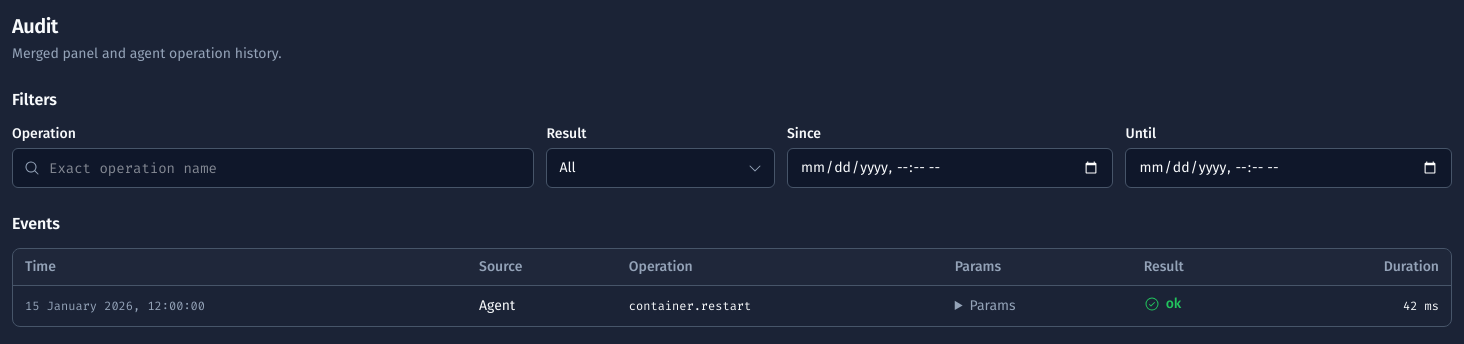
Test case: AuditPage › requests failed results and clears the filters
Expected: the text "container.restart" is shown, [617,286,943,326]
Select "Failed" in the dropdown labelled "Result": (661, 168) [546,148,775,188]
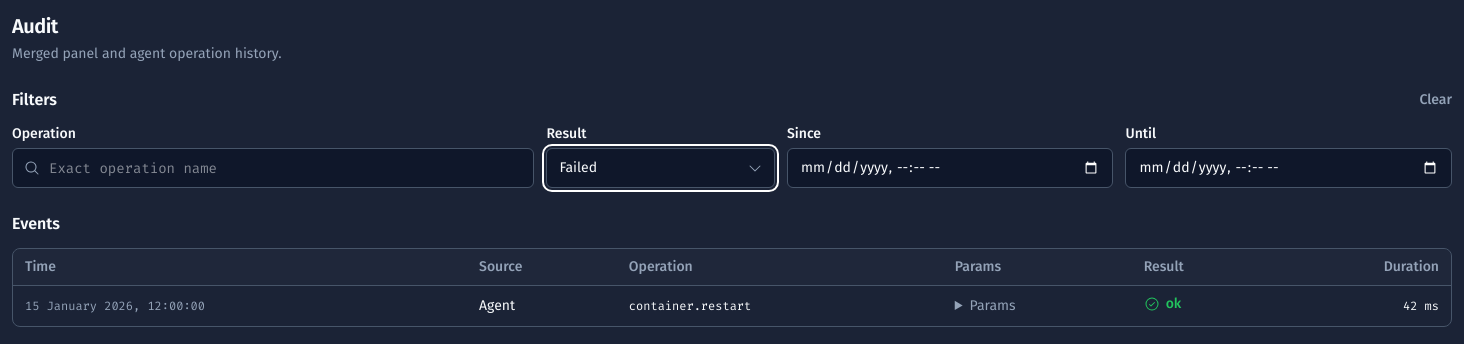
Click the button "Clear": (1436, 100) [1419,90,1452,110]
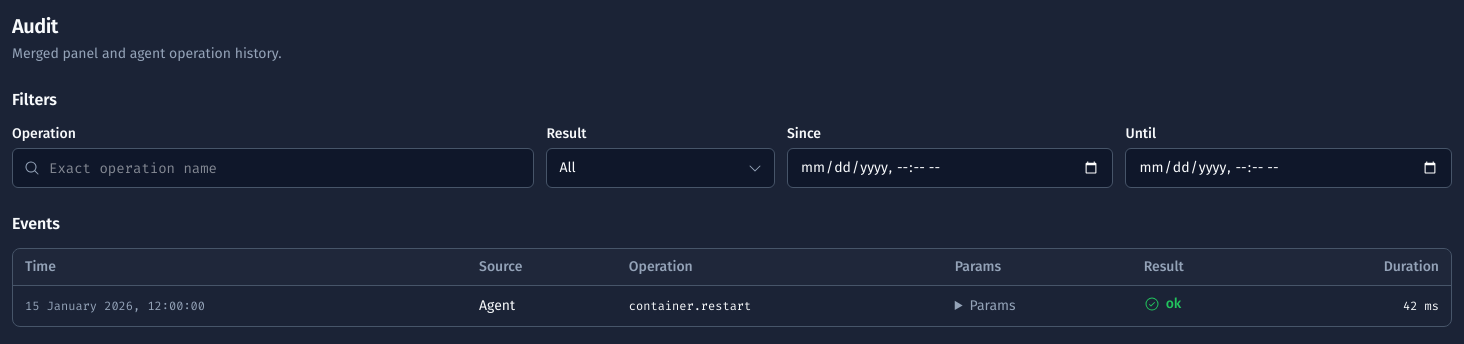
Expected: the button "Clear" is gone
